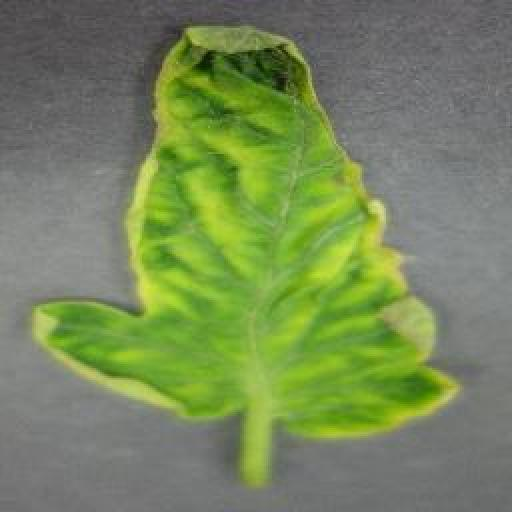disease_tomato: (34, 21, 461, 443)
